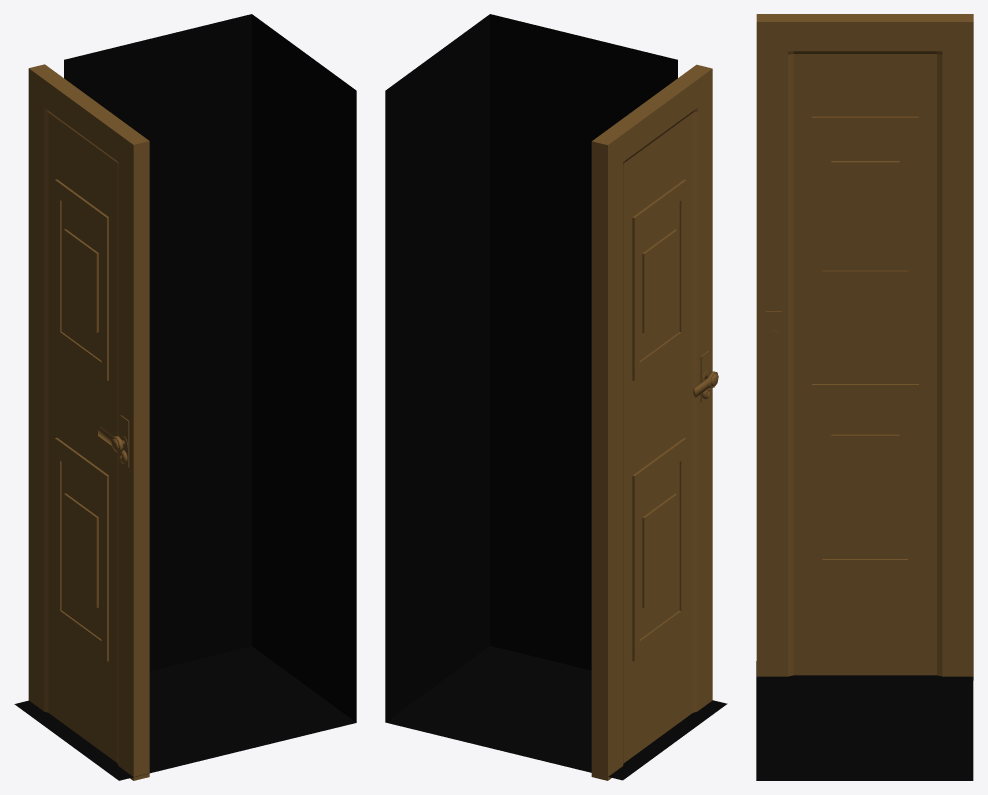
Rendered from NS_PorteSalonCorner.glb.
3 views of the same model, side by side, from view 1: azimuth 30°, elevation 25°; view 2: azimuth 150°, elevation 25°; view 3: azimuth 270°, elevation 25° (orthographic). The views are drawn at different scales.
Visible parts, largest first — view 1: DoorBack.001, S_LowDoor.001; view 2: DoorBack.001, S_LowDoor.001; view 3: S_LowDoor.001, DoorBack.001.
Part boxes in pixels (<box>): DoorBack.001: <box>14,14,356,780</box>; S_LowDoor.001: <box>28,64,149,780</box>; DoorBack.001: <box>385,14,727,780</box>; S_LowDoor.001: <box>591,64,712,780</box>; S_LowDoor.001: <box>756,14,973,680</box>; DoorBack.001: <box>756,661,973,780</box>.
Bounding box in the file's own units: 0.8629 × 2.21 × 0.6607.
